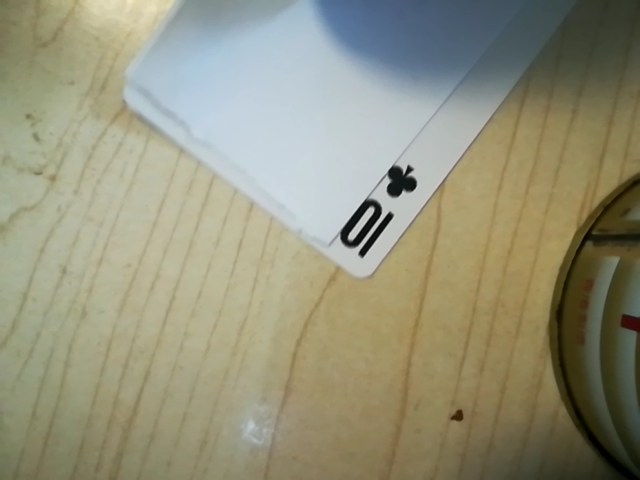mh 10: (326, 151, 424, 269)
